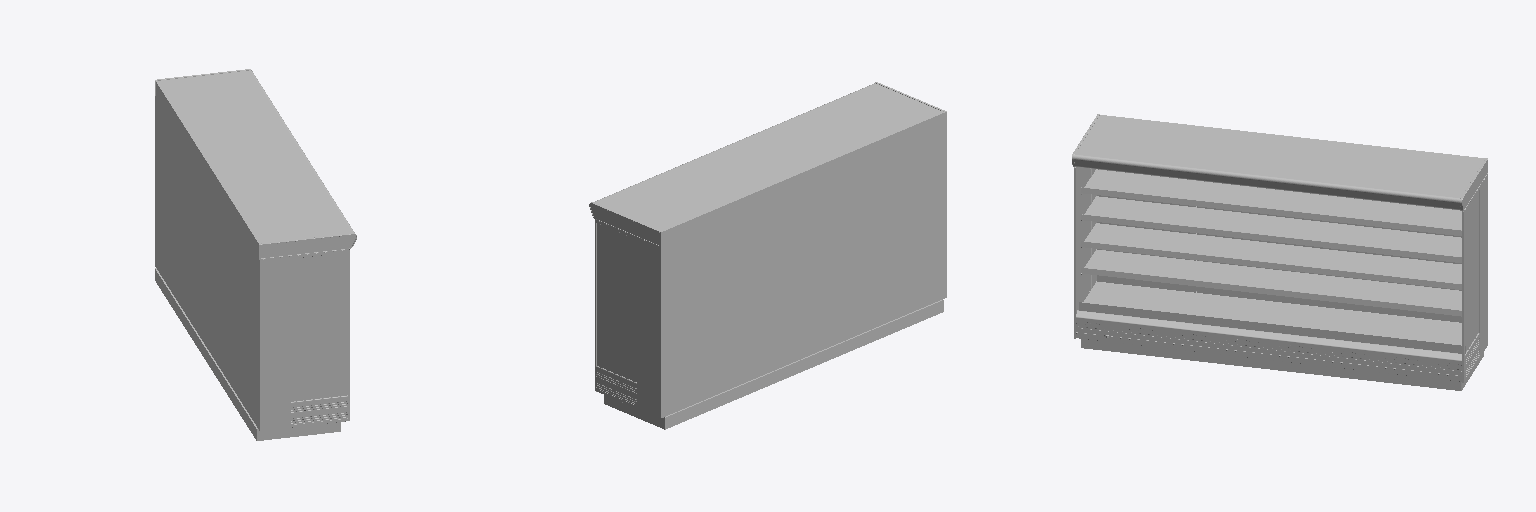
Rendered from Refrigerator showcase N270619.obj.
3 renders of one model, left to right at view 1: azimuth 30°, elevation 25°; view 2: azimuth 150°, elevation 25°; view 3: azimuth 270°, elevation 25°, orthographic.
Visible parts, largest first — view 1: Object18956; view 2: Object18956; view 3: Object18956.
Part boxes in pixels (x1,y1,x2,y2): Object18956: (155, 69, 356, 440); Object18956: (589, 82, 946, 429); Object18956: (1072, 114, 1487, 390).
Size of the model in its own units: 1942 by 2098 by 3990.